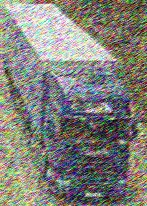truck: (2, 3, 138, 199)
